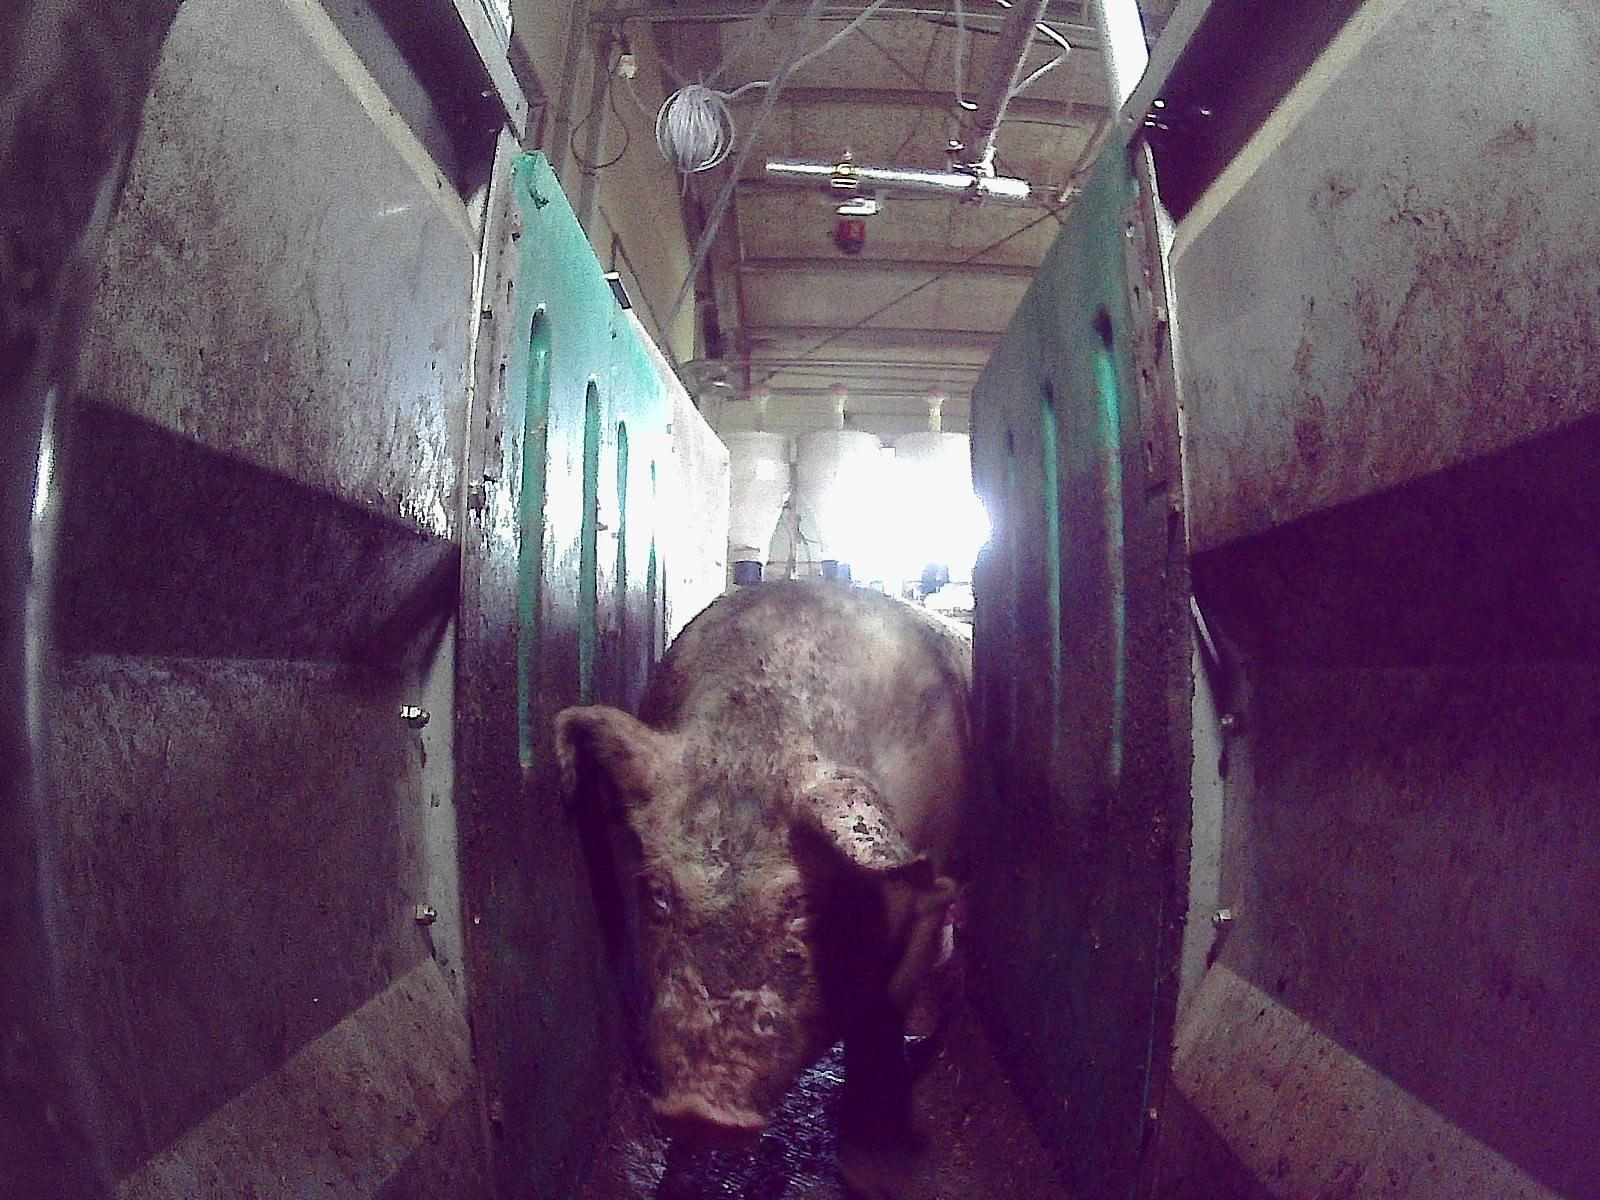Face: (627, 718, 860, 1148)
